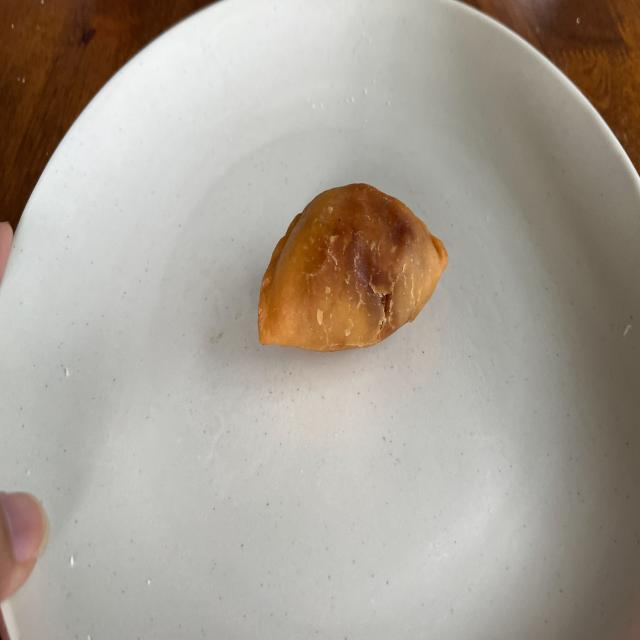karipap: (259, 184, 449, 351)
